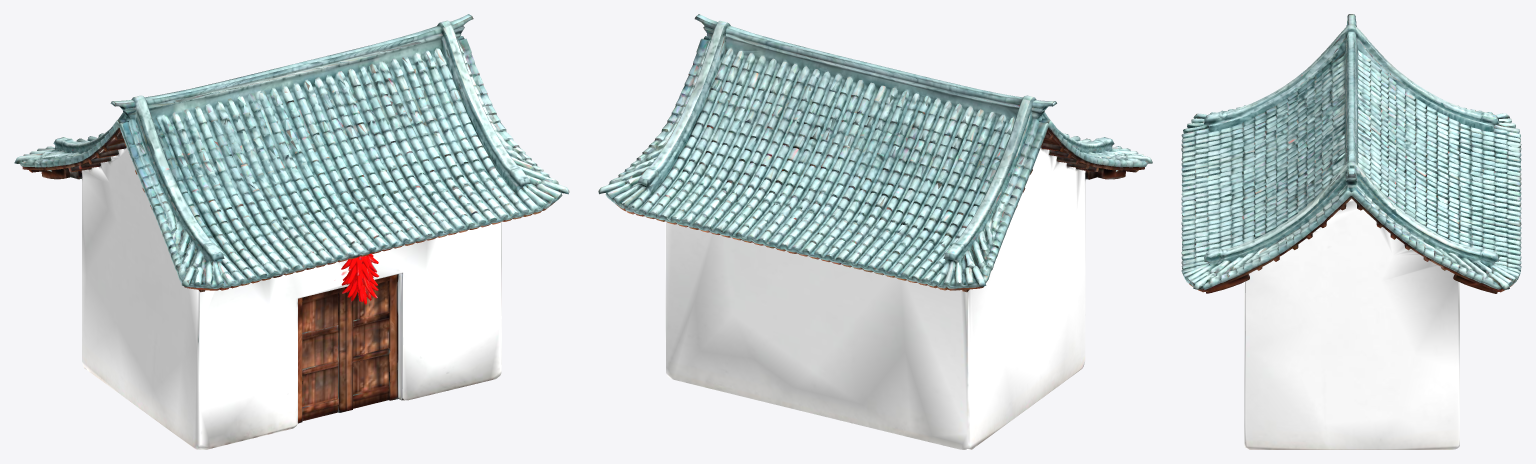
Rendered from qm_house.glb.
3 views of the same model, side by side, from view 1: azimuth 30°, elevation 25°; view 2: azimuth 150°, elevation 25°; view 3: azimuth 270°, elevation 25° (orthographic). The views are drawn at different scales.
Parts seen in each view (by area): view 1: qm_house; view 2: qm_house; view 3: qm_house.
Boxes of the visible parts, x1,y1,x2,y2 form: qm_house: [14, 14, 569, 449]; qm_house: [598, 14, 1152, 449]; qm_house: [1181, 14, 1521, 449].
Bounding box in the file's own units: 7.77 × 6 × 6.42.
1 material, 1 textured.
